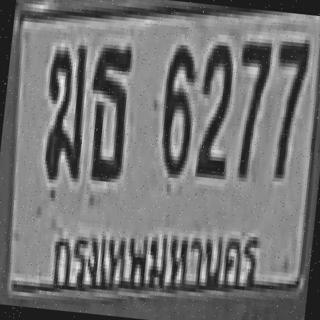A06: (38, 38, 90, 178)
A24: (82, 39, 132, 179)
N02: (193, 40, 235, 176)
N06: (155, 40, 199, 175)
N07: (264, 35, 309, 174), (228, 36, 270, 176)
P04: (46, 213, 265, 300)
